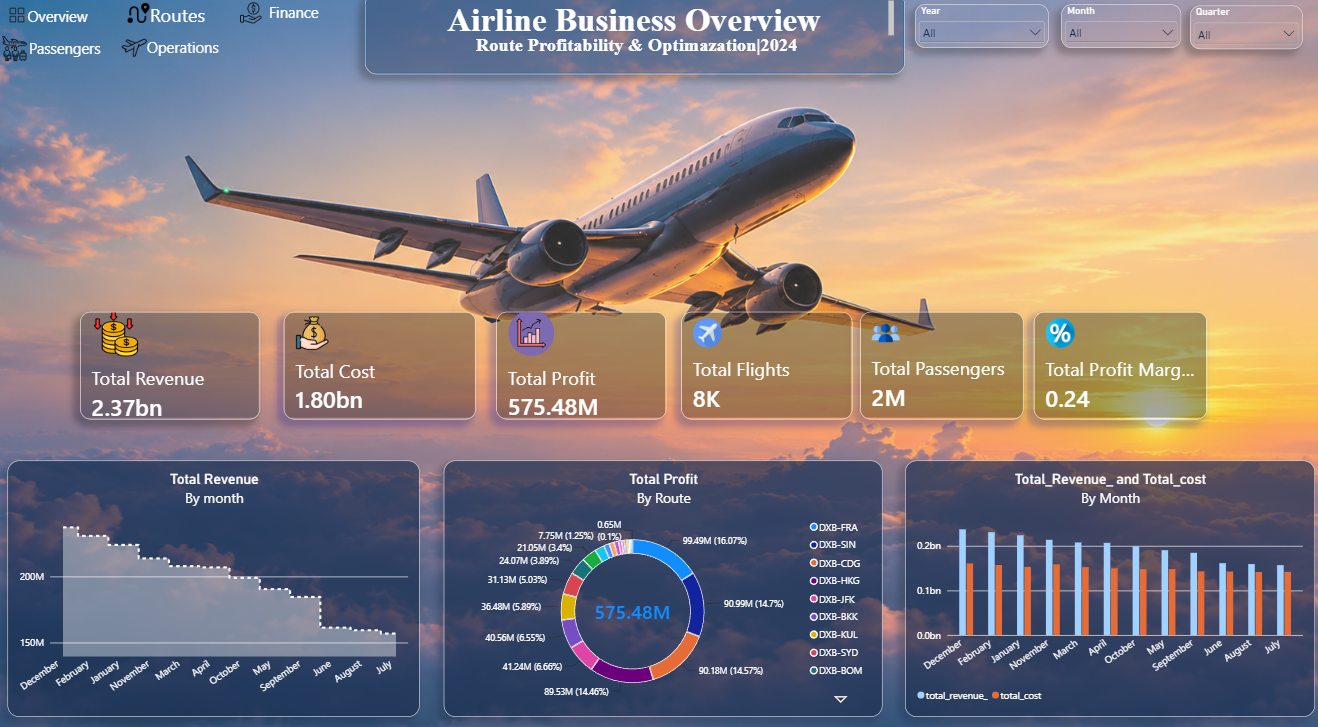

This screenshot's page, from the dashboard's own definition file:
{"tool":"powerbi","page":{"name":"Airline Business Overview","canvas":[1920,1080],"ordinal":0},"visuals":[{"type":"cardVisual","fields":{"Data":["calculation_tbl.total_revenue_"]},"box":[123.1,461.5,260.6,155.6],"z":0},{"type":"actionButton","box":[169,10.6,169,36.1],"z":1000},{"type":"areaChart","title":"Total Revenue","fields":{"Category":["Dim_Date.Month"],"Y":["calculation_tbl.total_revenue_"]},"box":[18.1,676.8,597.2,371],"z":2000},{"type":"actionButton","box":[16.7,12.8,133.6,38.3],"z":3000},{"type":"donutChart","title":"Total Profit","fields":{"Category":["route_details.Route"],"Y":["Average Aircraft Capacity.total_profit"]},"box":[649.7,676.8,635.2,371],"z":4000},{"type":"image","box":[2.1,17,59.7,31.3],"z":5000},{"type":"clusteredColumnChart","title":"Total_Revenue_ and Total_cost","fields":{"Category":["Dim_Date.Month"],"Y":["calculation_tbl.total_revenue_","calculation_tbl.total_cost"]},"box":[1317.4,676.8,593.6,371],"z":6000},{"type":"textbox","box":[47.1,18.1,90.5,34.4],"z":7000},{"type":"cardVisual","fields":{"Data":["calculation_tbl.total_cost"]},"box":[418,461.5,278.7,155.6],"z":8000},{"type":"actionButton","box":[348.5,10.6,169,36.1],"z":9000},{"type":"cardVisual","fields":{"Data":["calculation_tbl.total_passengers"]},"box":[1252.3,461.5,237.1,155.6],"z":10000},{"type":"actionButton","box":[175.5,57.9,173.2,40.4],"z":11000},{"type":"shape","box":[535.7,0,781.8,117.6],"z":12000,"group":"g1"},{"type":"cardVisual","fields":{"Data":["calculation_tbl.total_flights"]},"box":[993.5,461.5,247.9,155.6],"z":12000},{"type":"textbox","box":[557.4,10.9,743.8,52.5],"z":13000,"group":"g1"},{"type":"actionButton","box":[10.4,63.8,139.8,48.9],"z":13000},{"type":"textbox","box":[649.7,59.7,535.7,32.6],"z":14000,"group":"g1"},{"type":"cardVisual","fields":{"Data":["calculation_tbl.total_profit"]},"box":[725.7,461.5,246.1,155.6],"z":14000},{"type":"textbox","box":[217.2,12.7,92.3,38],"z":15000},{"type":"cardVisual","fields":{"Data":["calculation_tbl.total_profit_margin"]},"box":[1503.8,461.5,251.5,155.6],"z":16000},{"type":"image","box":[187.8,10.6,39.7,36.1],"z":17000},{"type":"slicer","fields":{"Values":["Dim_Date.Year"]},"box":[1331.9,16.3,193.6,63.3],"z":18000},{"type":"textbox","box":[367.4,12.7,129.4,38.3],"z":19000},{"type":"slicer","fields":{"Values":["Dim_Date.Month"]},"box":[1543.6,16.3,173.7,63.3],"z":20000},{"type":"image","box":[352.7,0,35.5,57.4],"z":21000},{"type":"slicer","fields":{"Values":["Dim_Date.Quarter"]},"box":[1730,18.1,162.9,63.3],"z":22000},{"type":"textbox","box":[19.9,65.1,141.9,31.9],"z":23000},{"type":"image","box":[10.4,55.3,35.5,48.9],"z":24000},{"type":"group","id":"g1","title":"Group 2","box":[535.7,0,781.8,117.6],"z":25000},{"type":"textbox","box":[208.1,63.3,119,34],"z":26000},{"type":"image","box":[175.5,61.5,52.5,36.2],"z":27000}]}

Visuals, with their boxes on the page's 1920x1080 design canvas (x1, y1, x2, y2). These are canvas units, not pixel positions in the 1318x727 screenshot, which may show the page scaled, cropped or inside an application window:
cardVisual - calculation_tbl.total_revenue_: bbox(123, 462, 384, 617)
actionButton: bbox(169, 11, 338, 47)
"Total Revenue" areaChart: bbox(18, 677, 615, 1048)
actionButton: bbox(17, 13, 150, 51)
"Total Profit" donutChart: bbox(650, 677, 1285, 1048)
image: bbox(2, 17, 62, 48)
"Total_Revenue_ and Total_cost" clusteredColumnChart: bbox(1317, 677, 1911, 1048)
textbox: bbox(47, 18, 138, 52)
cardVisual - calculation_tbl.total_cost: bbox(418, 462, 697, 617)
actionButton: bbox(348, 11, 518, 47)
cardVisual - calculation_tbl.total_passengers: bbox(1252, 462, 1489, 617)
actionButton: bbox(176, 58, 349, 98)
shape: bbox(536, 0, 1318, 118)
cardVisual - calculation_tbl.total_flights: bbox(994, 462, 1241, 617)
textbox: bbox(557, 11, 1301, 63)
actionButton: bbox(10, 64, 150, 113)
textbox: bbox(650, 60, 1185, 92)
cardVisual - calculation_tbl.total_profit: bbox(726, 462, 972, 617)
textbox: bbox(217, 13, 310, 51)
cardVisual - calculation_tbl.total_profit_margin: bbox(1504, 462, 1755, 617)
image: bbox(188, 11, 228, 47)
slicer - Dim_Date.Year: bbox(1332, 16, 1526, 80)
textbox: bbox(367, 13, 497, 51)
slicer - Dim_Date.Month: bbox(1544, 16, 1717, 80)
image: bbox(353, 0, 388, 57)
slicer - Dim_Date.Quarter: bbox(1730, 18, 1893, 81)
textbox: bbox(20, 65, 162, 97)
image: bbox(10, 55, 46, 104)
"Group 2" group: bbox(536, 0, 1318, 118)
textbox: bbox(208, 63, 327, 97)
image: bbox(176, 62, 228, 98)
